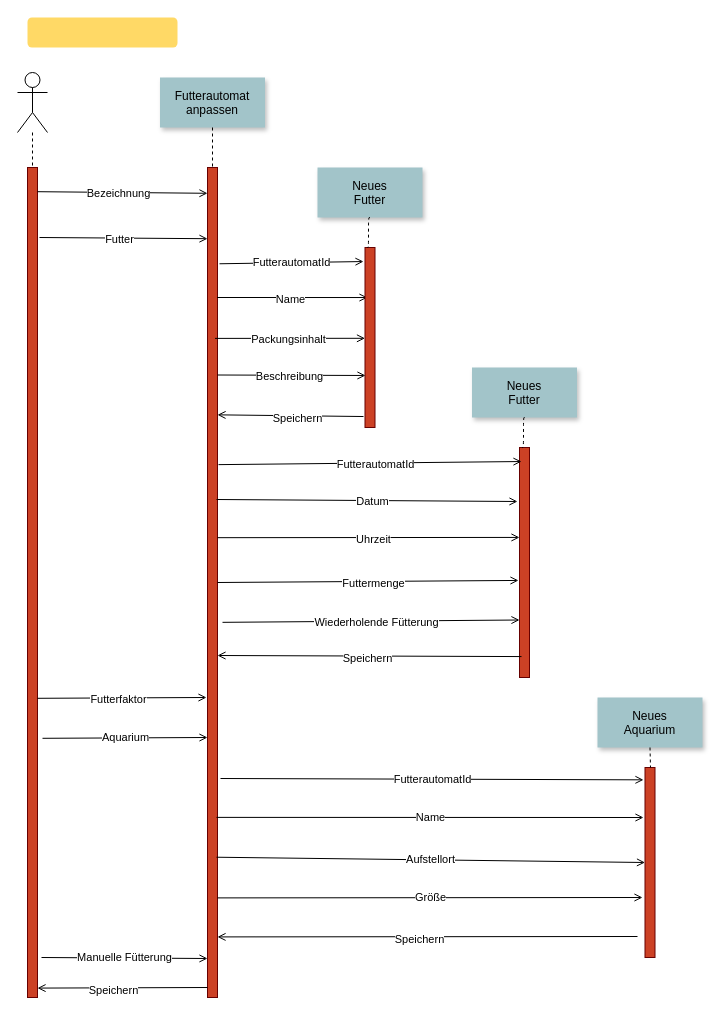
This 726x1015 diagram has some shape labels left out. Here are the shapes that lost their labels. From the top down, the centre of each, then its label:
At point 102,32: "Futterautomat".
At point 32,102: "User".
